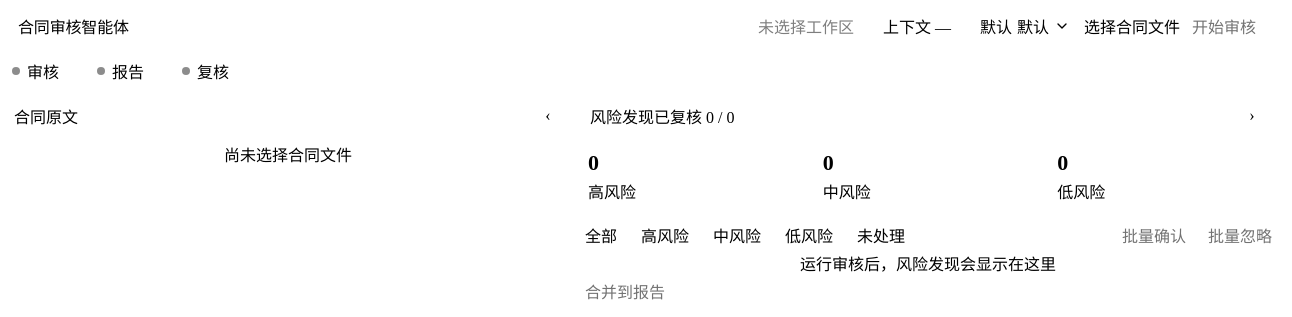
Scenario: ContractAgentSurface › resets a local draft when opening history from a new session
This screenshot has width=1292, height=317.
Click the button with test id "upload".
click(1132, 26)  # box [1078,13,1186,39]
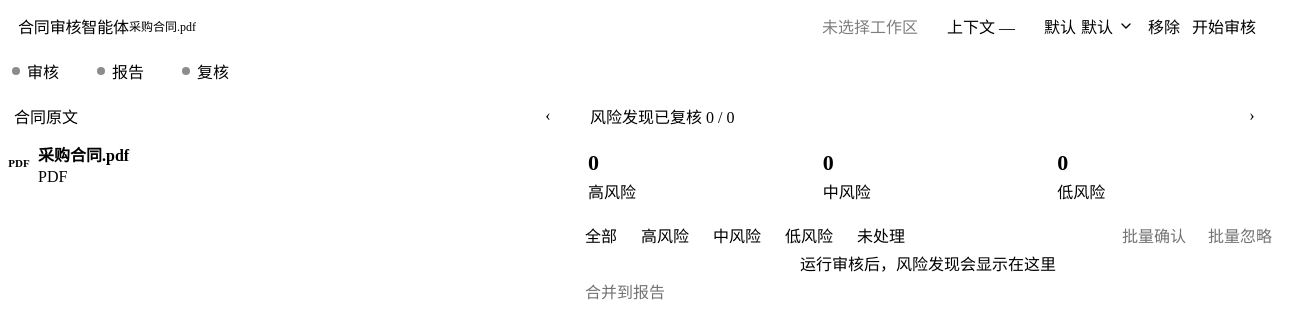
Expected: the button with test id "remove-document" is shown, [1142,13,1186,39]
